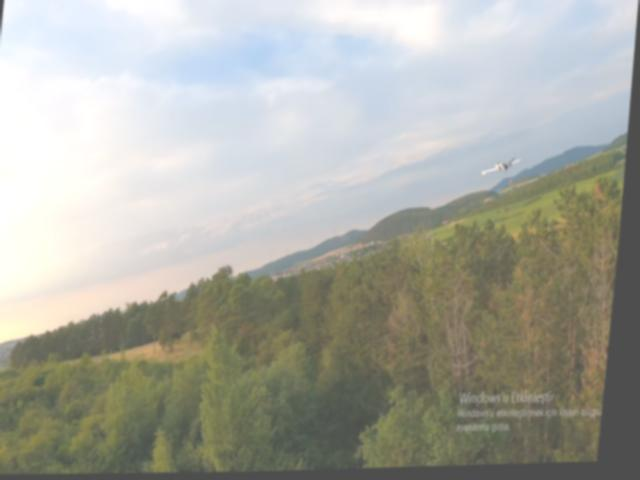plane: (484, 158, 526, 178)
